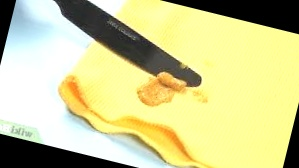mustard: (141, 68, 187, 112), (191, 86, 208, 106)
